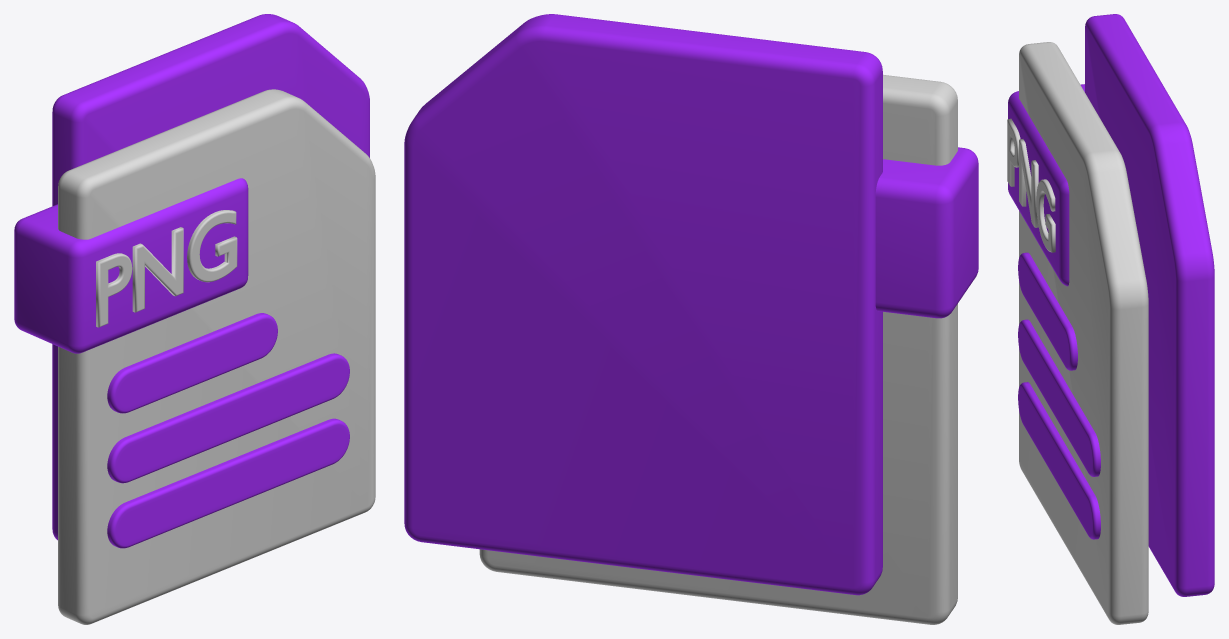
The model's file is png.fbx.
3 views of the same model, side by side, from view 1: azimuth 30°, elevation 25°; view 2: azimuth 150°, elevation 25°; view 3: azimuth 270°, elevation 25° (orthographic). The views are drawn at different scales.
Parts seen in each view (by area): view 1: 2; view 2: 2; view 3: 2.
Part boxes in pixels (x1,y1,x2,y2): 2: (14, 14, 375, 624); 2: (404, 14, 978, 624); 2: (1007, 14, 1214, 624).
Bounding box in the file's own units: 463 × 538 × 215.
